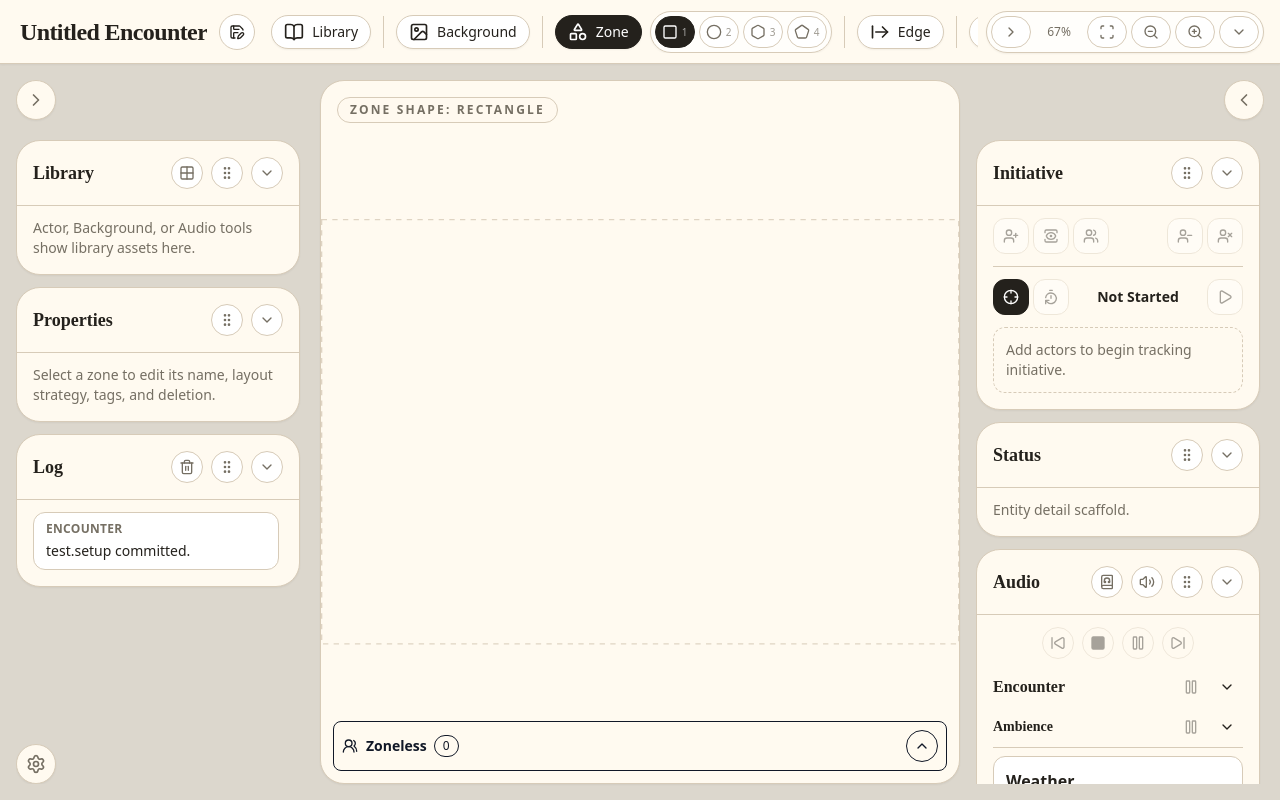
Scenario: normal Library audio assignment › offers existing and new Ambience and Music groups for Tracks, with atomic undo/redo
Click the button "Library" at (321, 32), box top-left (271, 14), bottom-right (371, 48)
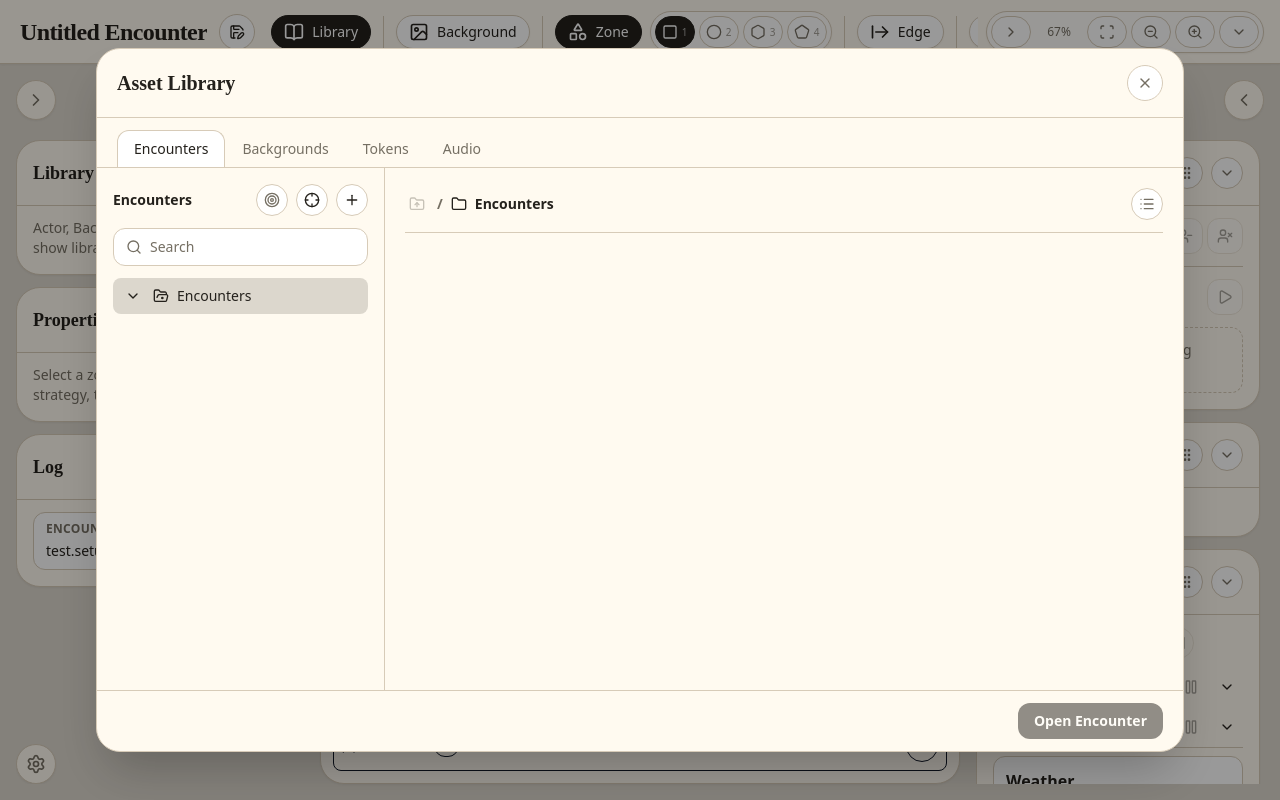
Click the tab "Audio" at (462, 148), box top-left (426, 130), bottom-right (498, 167)
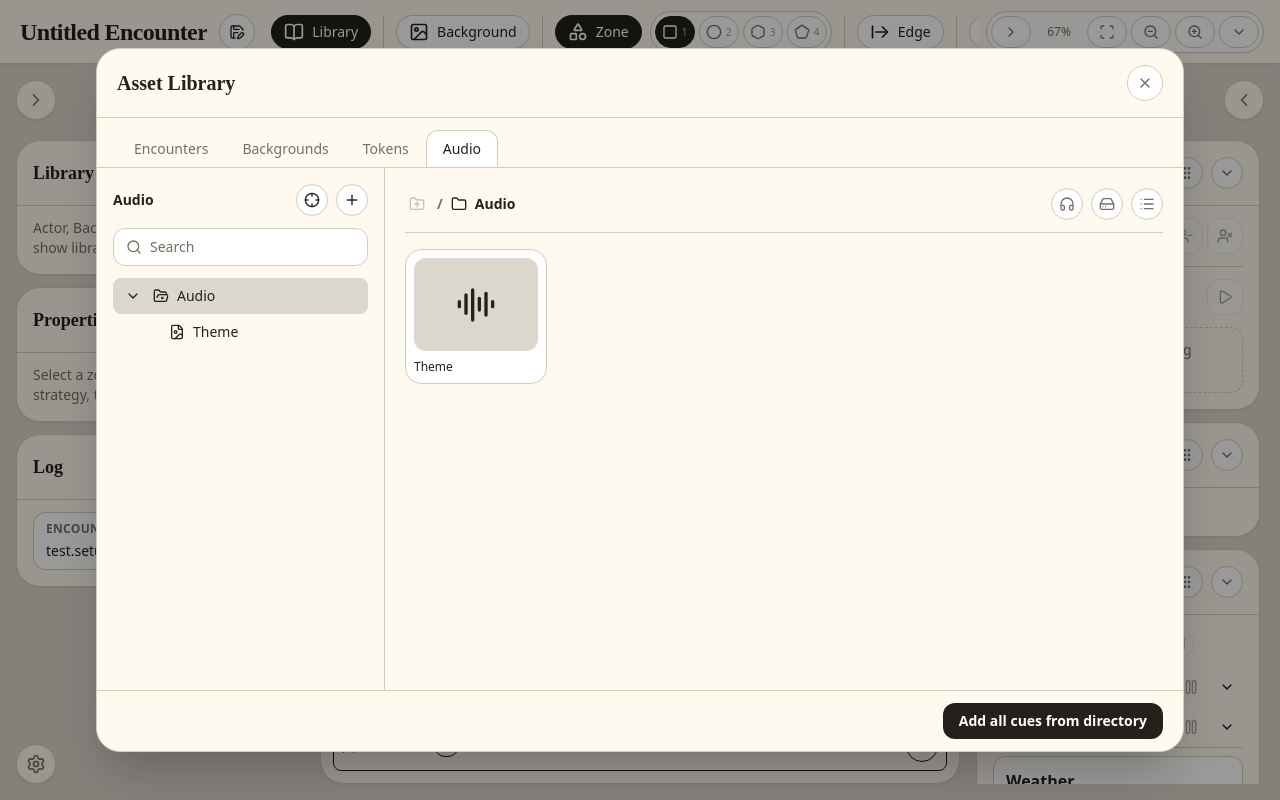
Click the button "Theme" at (476, 316), box top-left (405, 249), bottom-right (547, 384)
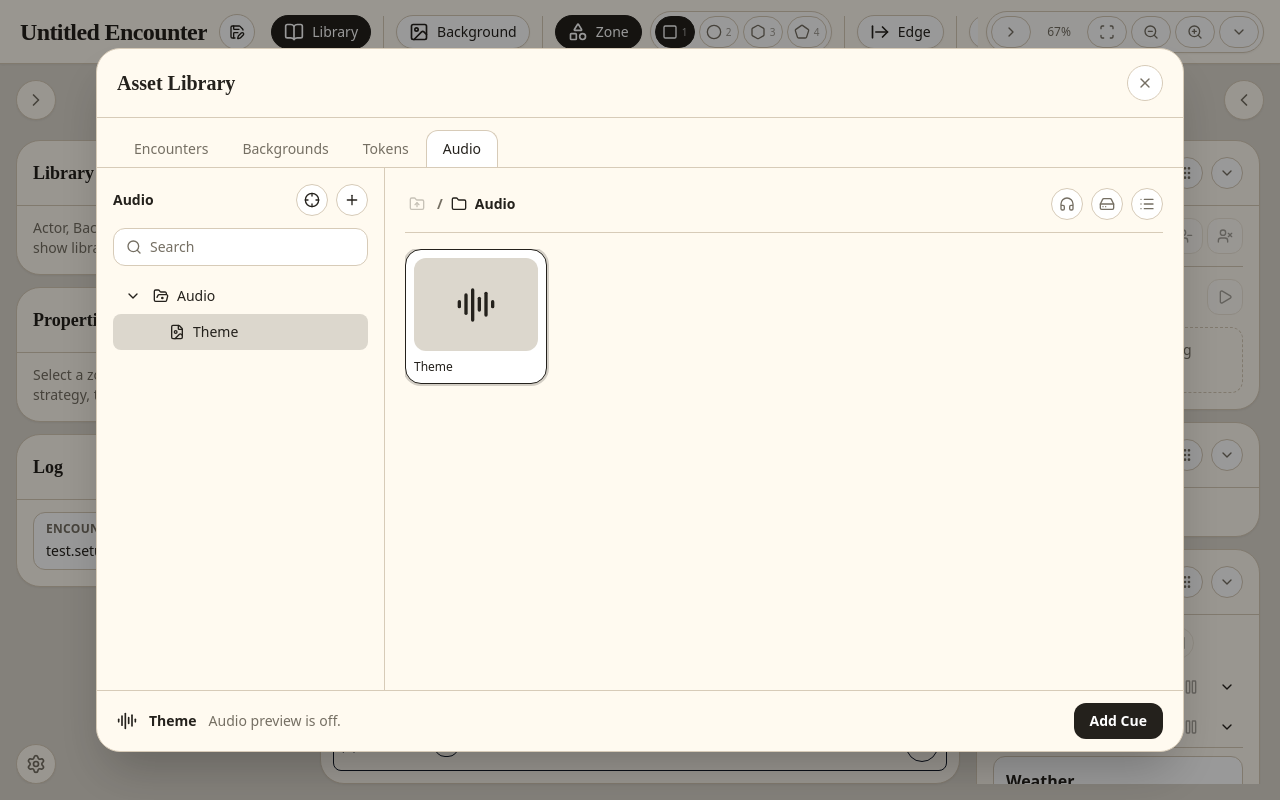
Click the button "Add Cue" at (1118, 721), box top-left (1074, 703), bottom-right (1163, 739)
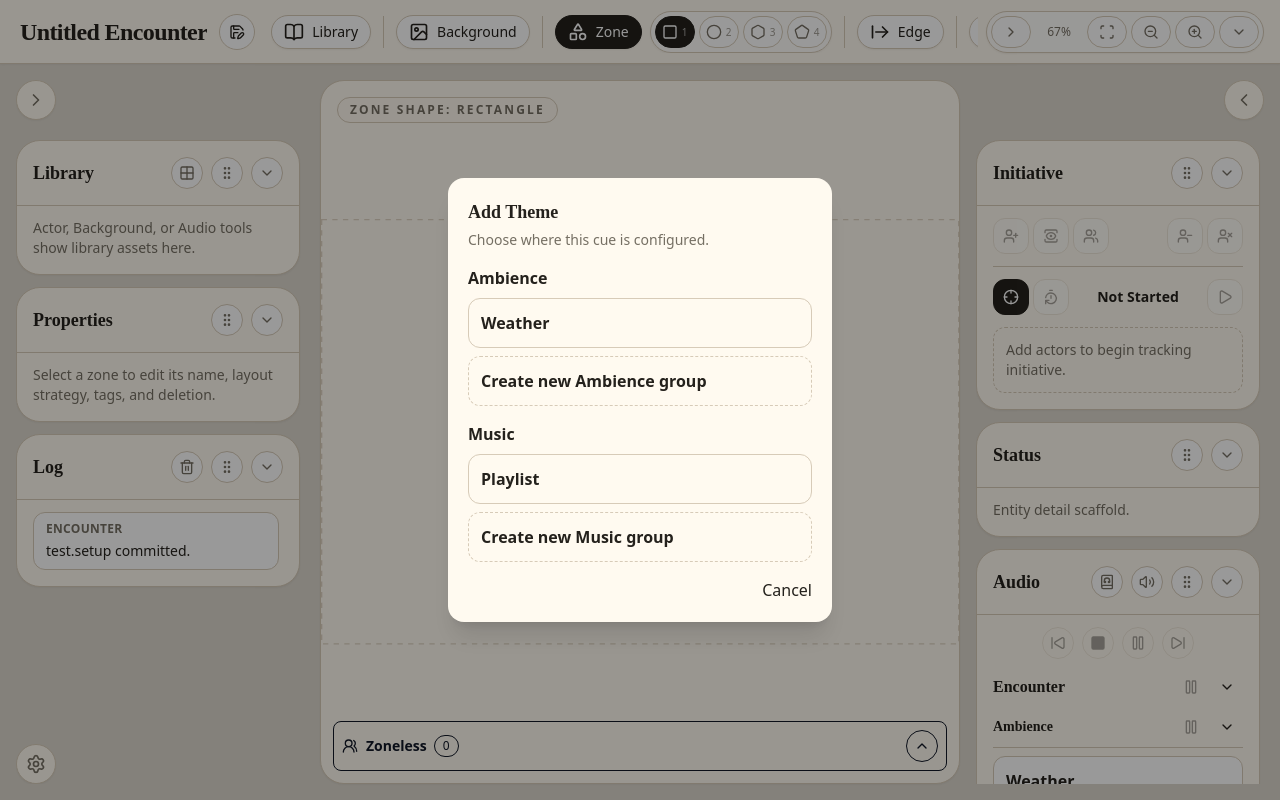
expect the heading "Asset Library" is gone: met
expect the button "Weather" is shown: met, box top-left (468, 298), bottom-right (812, 348)
expect the button "Playlist" is shown: met, box top-left (468, 454), bottom-right (812, 504)
Click the button "Create new Music group" at (640, 537), box top-left (468, 512), bottom-right (812, 562)
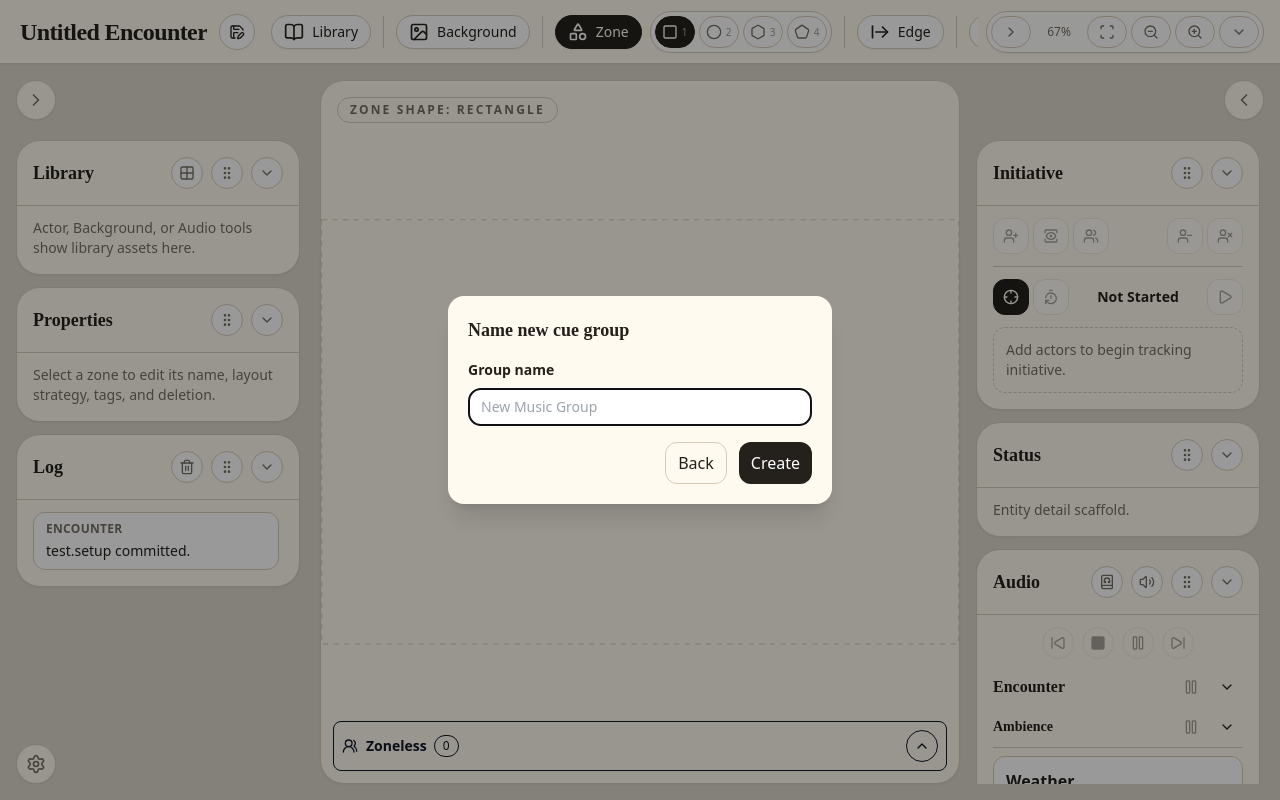
Type "  Battle tracks  " into the field labelled "Group name" at (640, 407), box top-left (468, 388), bottom-right (812, 426)
Click the button "Create" at (775, 463), box top-left (739, 442), bottom-right (812, 484)
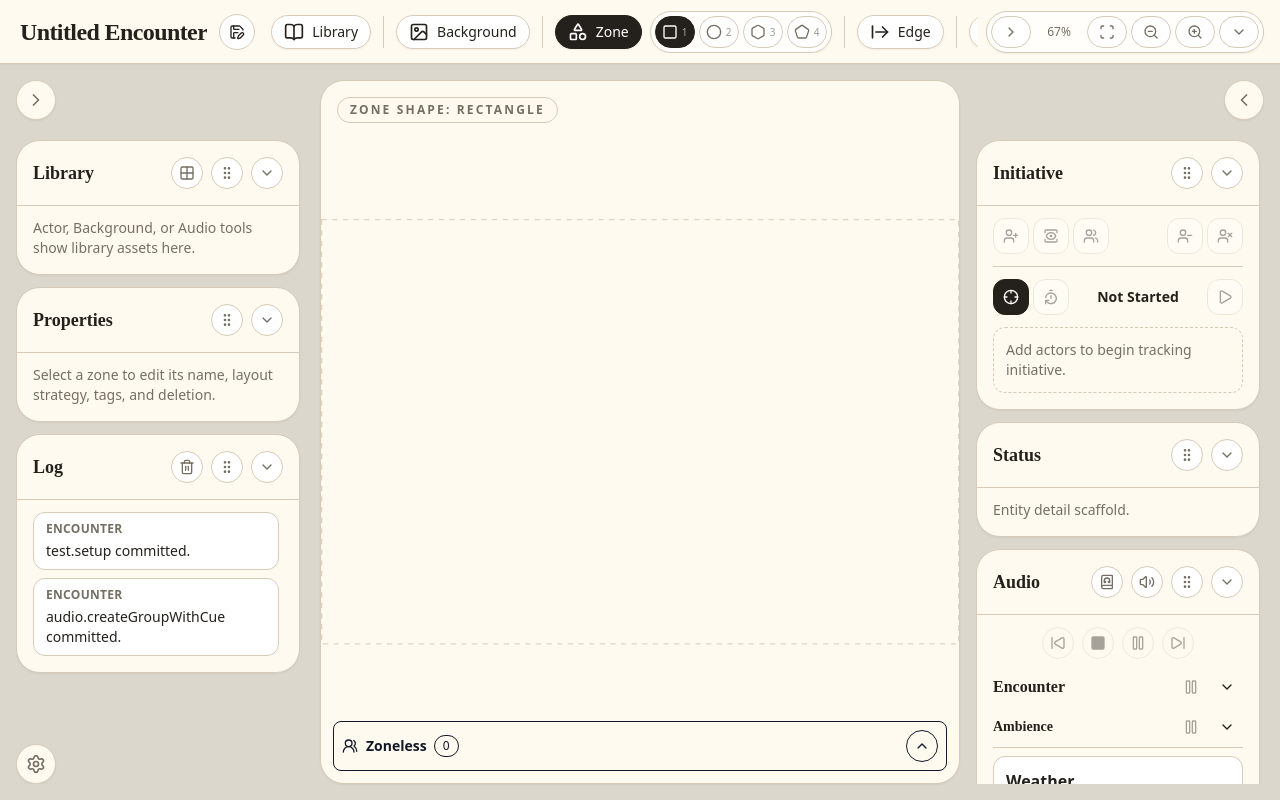
expect the heading "Name new cue group" is gone: met
